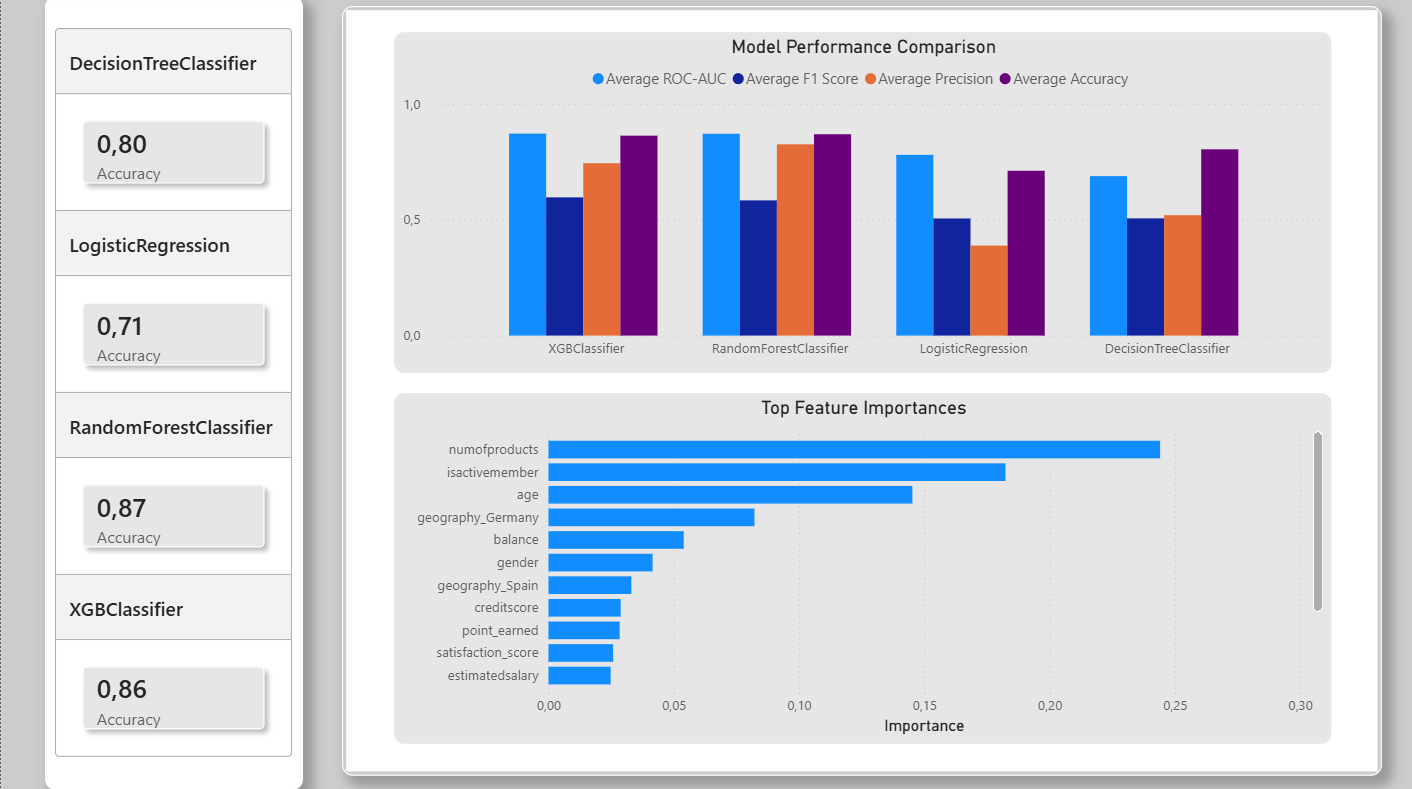

This screenshot's page, from the dashboard's own definition file:
{"tool":"powerbi","page":{"name":"Machine Learning Performance","canvas":[1280,720],"ordinal":1},"visuals":[{"type":"shape","box":[309.5,9.2,942.8,697.9],"z":0},{"type":"clusteredColumnChart","title":"Model Performance Comparison","fields":{"Category":["model_results.Model"],"Y":["Avg(model_results.ROC-AUC)","Avg(model_results.F1 Score)","Avg(model_results.Precision)","Avg(model_results.Accuracy)"]},"box":[355.6,31.8,851.6,310.5],"z":1000},{"type":"barChart","title":"Top Feature Importances","fields":{"Category":["feature_importance.Feature"],"Y":["Avg(feature_importance.Importance)"]},"box":[355.6,358.7,851.6,319.7],"z":2000},{"type":"cardVisual","fields":{"Data":["Sum(model_results.Accuracy)"],"Rows":["model_results.Model"]},"box":[40,0,233.7,720.4],"z":3000}]}

Visuals, with their boxes on the page's 1280x720 design canvas (x1, y1, x2, y2). These are canvas units, not pixel positions in the 1412x789 screenshot, which may show the page scaled, cropped or inside an application window:
shape: detection(310, 9, 1252, 707)
"Model Performance Comparison" clusteredColumnChart: detection(356, 32, 1207, 342)
"Top Feature Importances" barChart: detection(356, 359, 1207, 678)
cardVisual - Sum(model_results.Accuracy) x model_results.Model: detection(40, 0, 274, 720)
